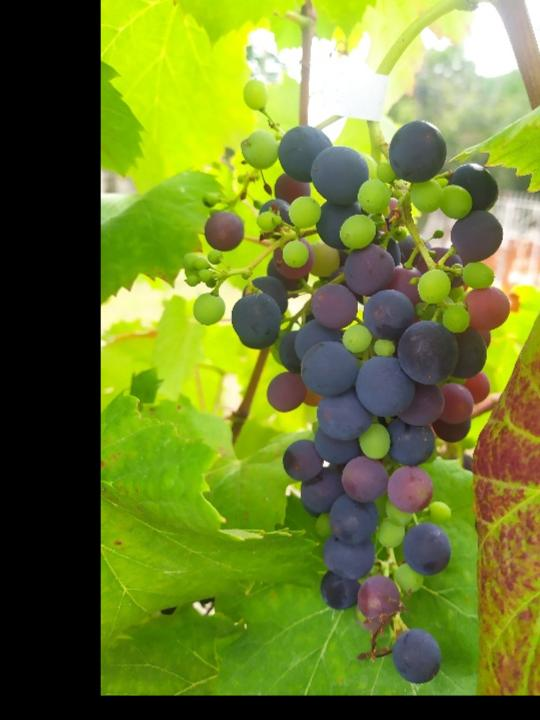grape: (181, 75, 515, 688)
